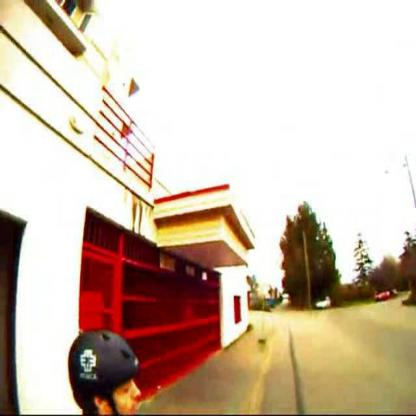other: (65, 7, 163, 180), (102, 249, 218, 371), (143, 198, 245, 268), (248, 230, 289, 309)
